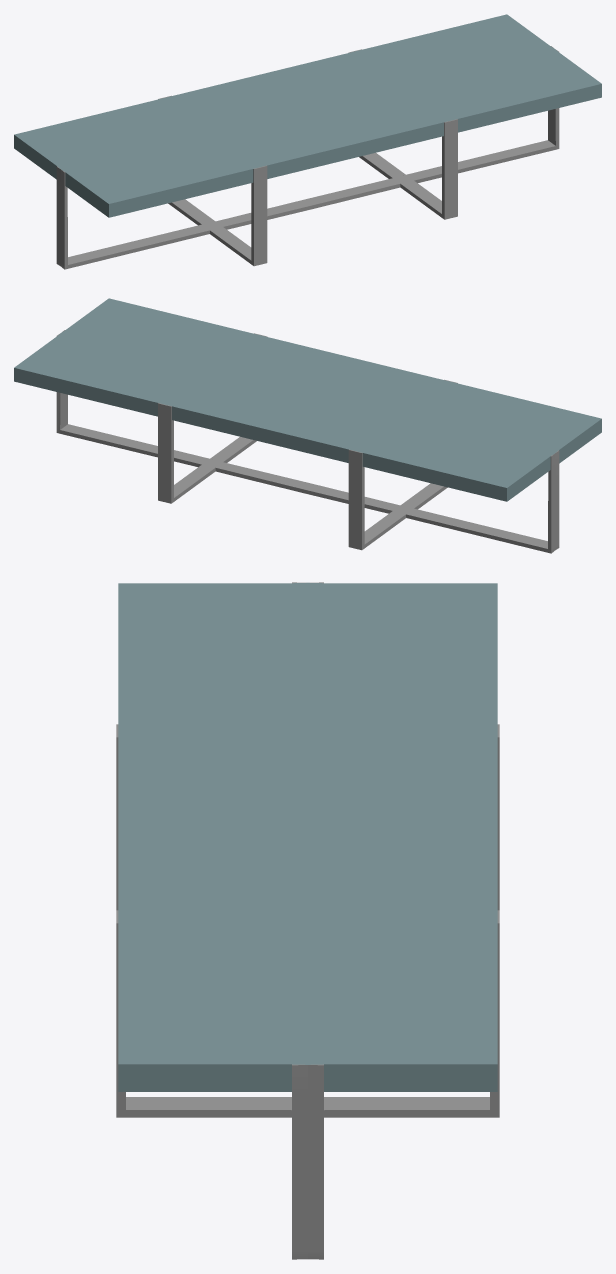
The model's file is Coffee_Table.fbx.
3 renders of one model, top to bottom at view 1: azimuth 30°, elevation 25°; view 2: azimuth 150°, elevation 25°; view 3: azimuth 270°, elevation 25°, orthographic. The views are drawn at different scales.
Parts seen in each view (by area): view 1: pCube5; view 2: pCube5; view 3: pCube5.
Part boxes in pixels (x1,y1,x2,y2): pCube5: [14, 14, 601, 269]; pCube5: [14, 298, 601, 553]; pCube5: [116, 582, 499, 1259].
Bounding box in the file's own units: 3.01 × 0.5648 × 1.01.
